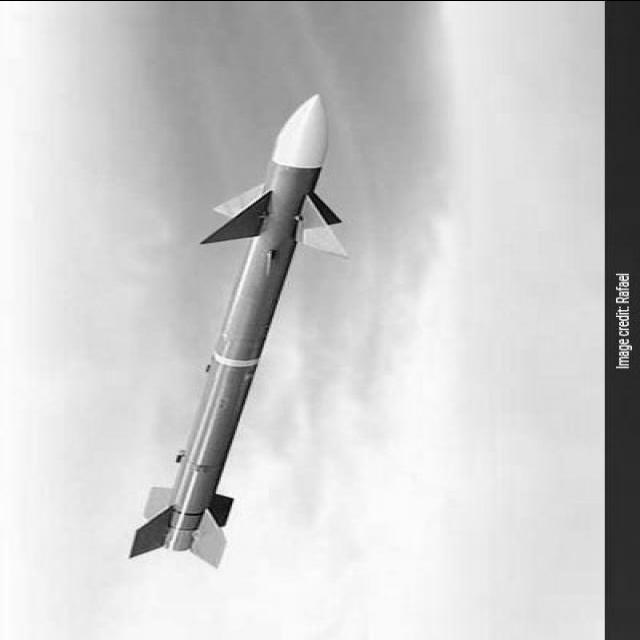Missile: (121, 82, 359, 570)
